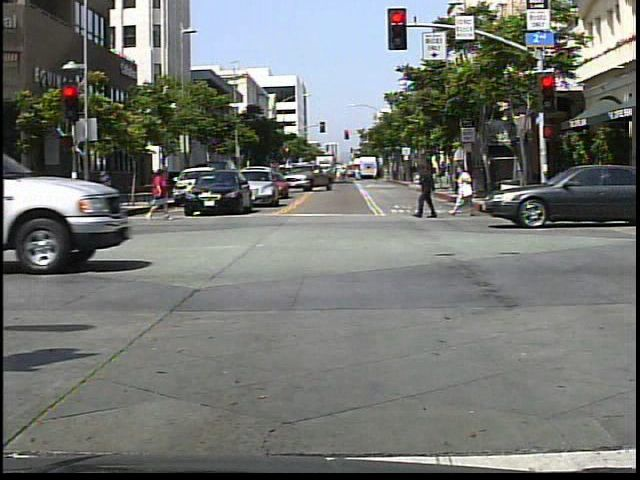person: (415, 157, 449, 221), (143, 165, 176, 225), (448, 158, 478, 222)
